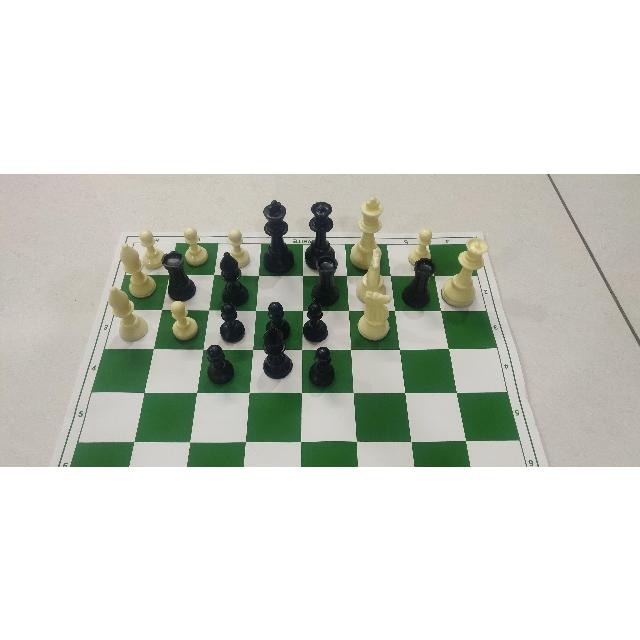black-bishop: (260, 322, 294, 377), (216, 251, 250, 305)
black-king: (258, 195, 293, 270)
black-pawn: (203, 341, 237, 389), (305, 343, 337, 386), (217, 302, 248, 342), (301, 303, 329, 339), (263, 300, 290, 328)
black-queen: (306, 199, 337, 257)
black-rook: (158, 251, 195, 299), (405, 256, 439, 305), (311, 257, 339, 301)
white-bishop: (104, 283, 147, 342), (113, 241, 156, 289)
white-king: (355, 195, 385, 243)
white-knight: (354, 292, 397, 342), (356, 244, 387, 288)
white-pawn: (160, 297, 198, 343), (177, 223, 204, 257), (411, 227, 437, 258), (223, 225, 251, 252), (138, 227, 156, 258)
white-queen: (444, 233, 494, 304)
